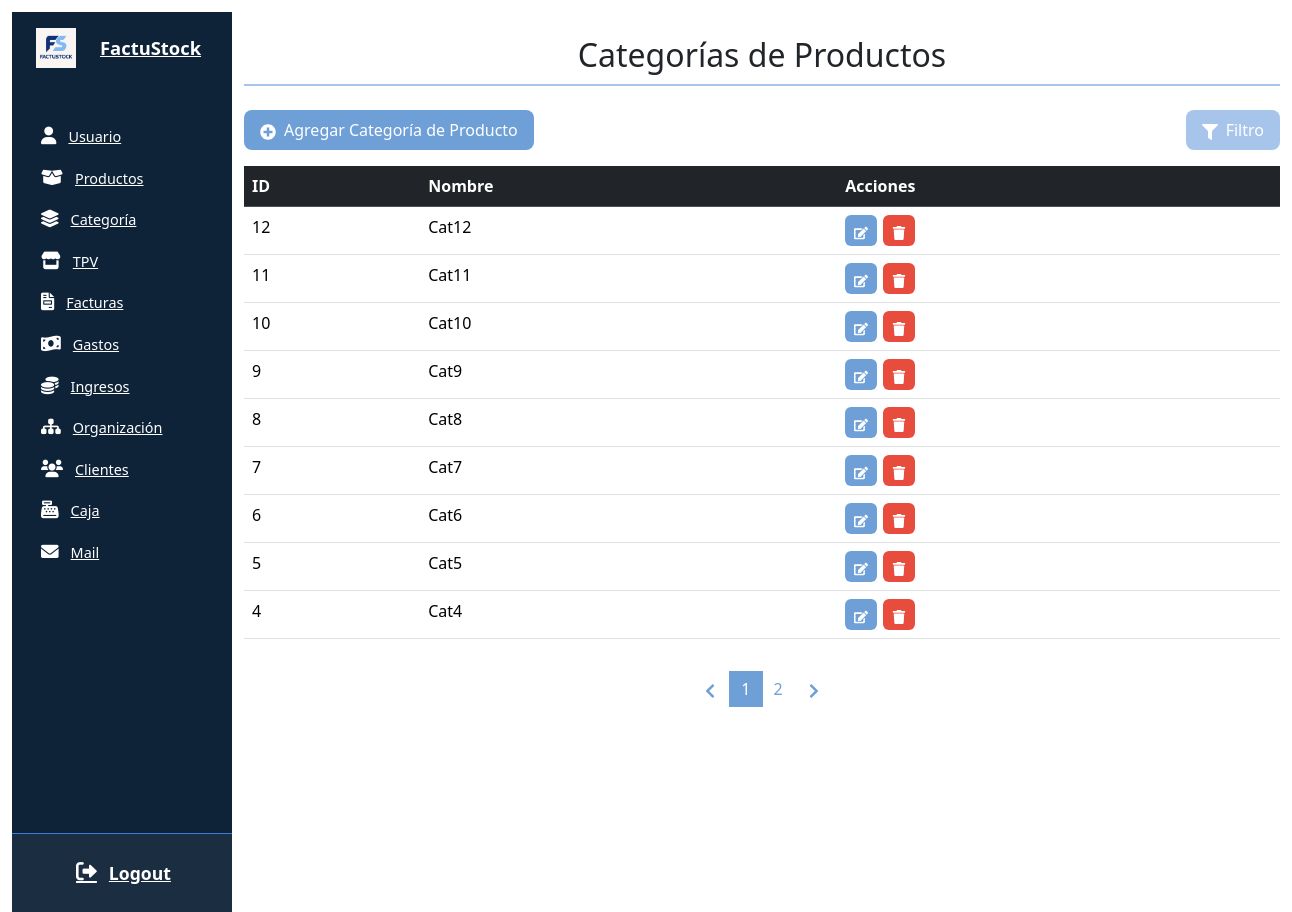
CategoryProducts › muestra paginación y cambia página
Expected: the text "Cat12" is shown, x1=420 y1=207 x2=837 y2=255
Click the button "2". click: click(778, 689)
box: x1=762 y1=671 x2=795 y2=707
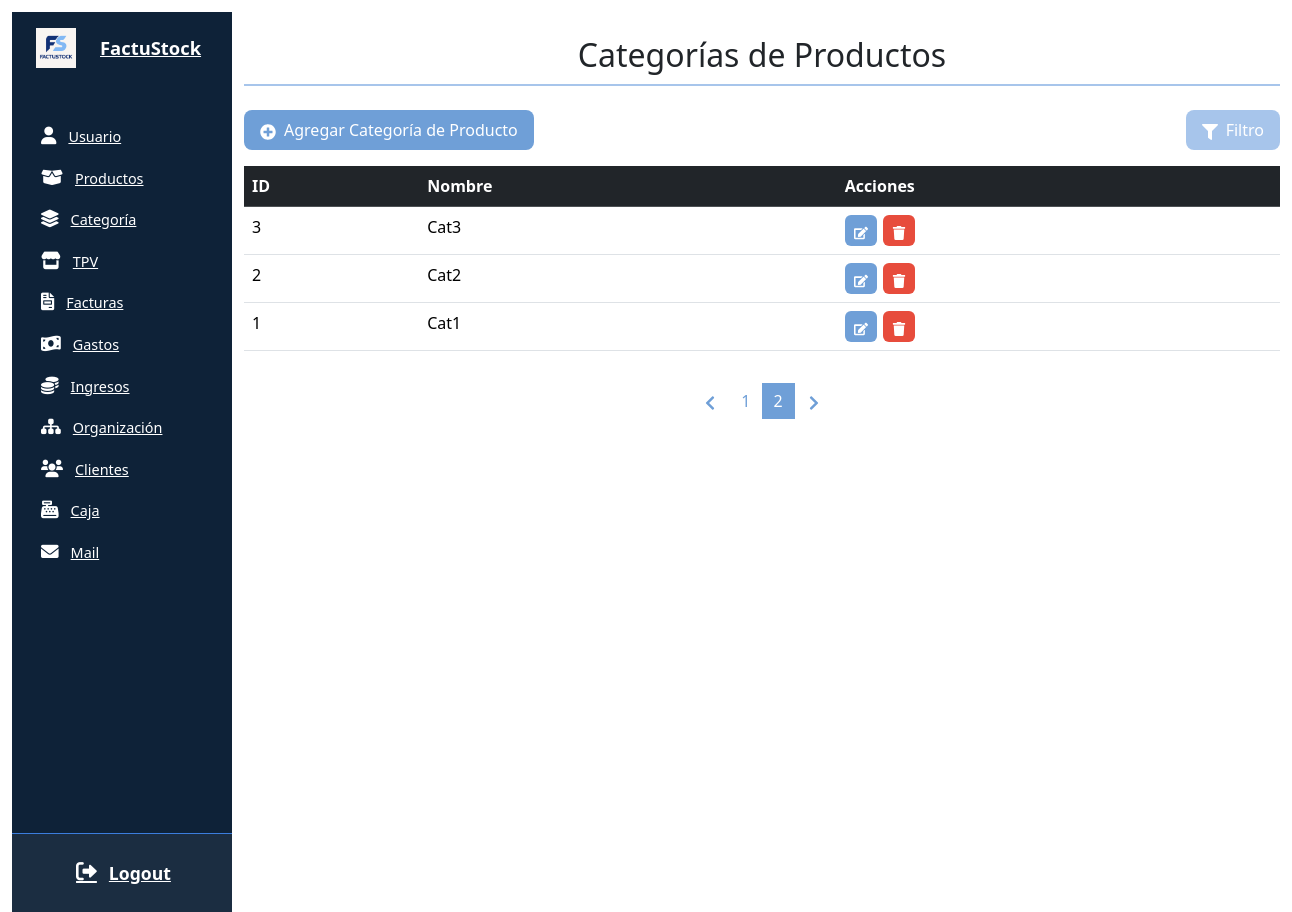
Result: the text "Cat3" is shown at x1=419 y1=207 x2=837 y2=255
